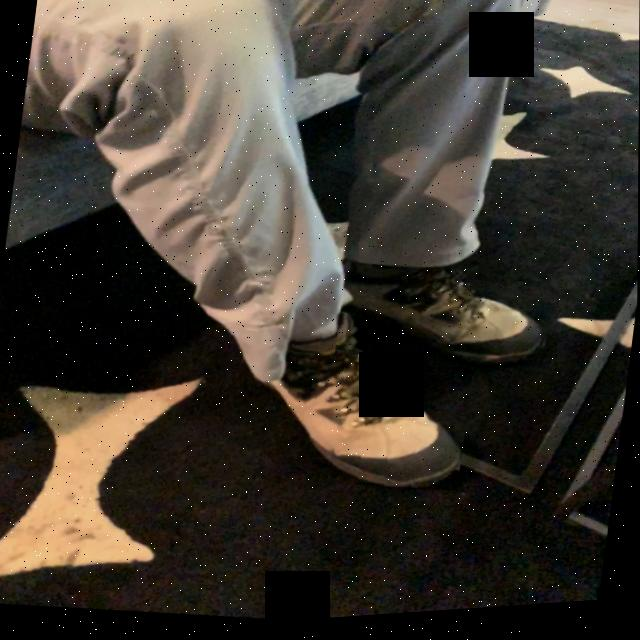shoe: (274, 322, 462, 494), (345, 268, 545, 377)
